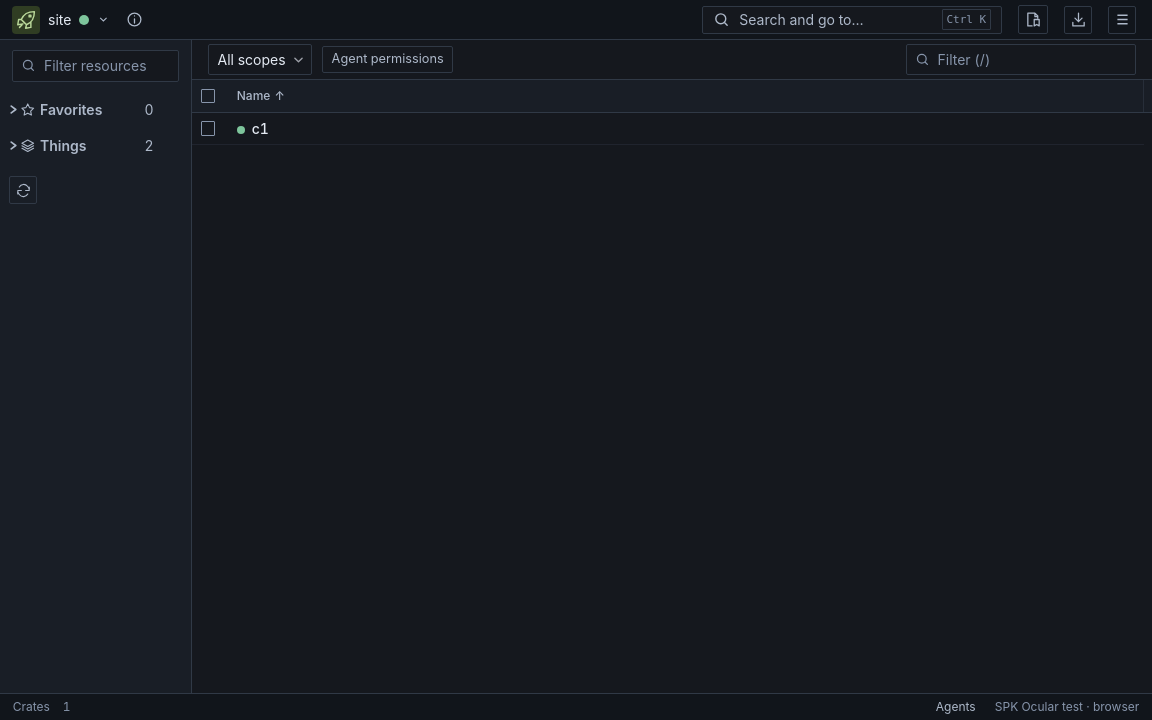
a provider without Kubernetes knowledge › details have no events section when the kind names no events kind
Double-click the text "c1" at (253, 128), box top-left (237, 120), bottom-right (269, 137)
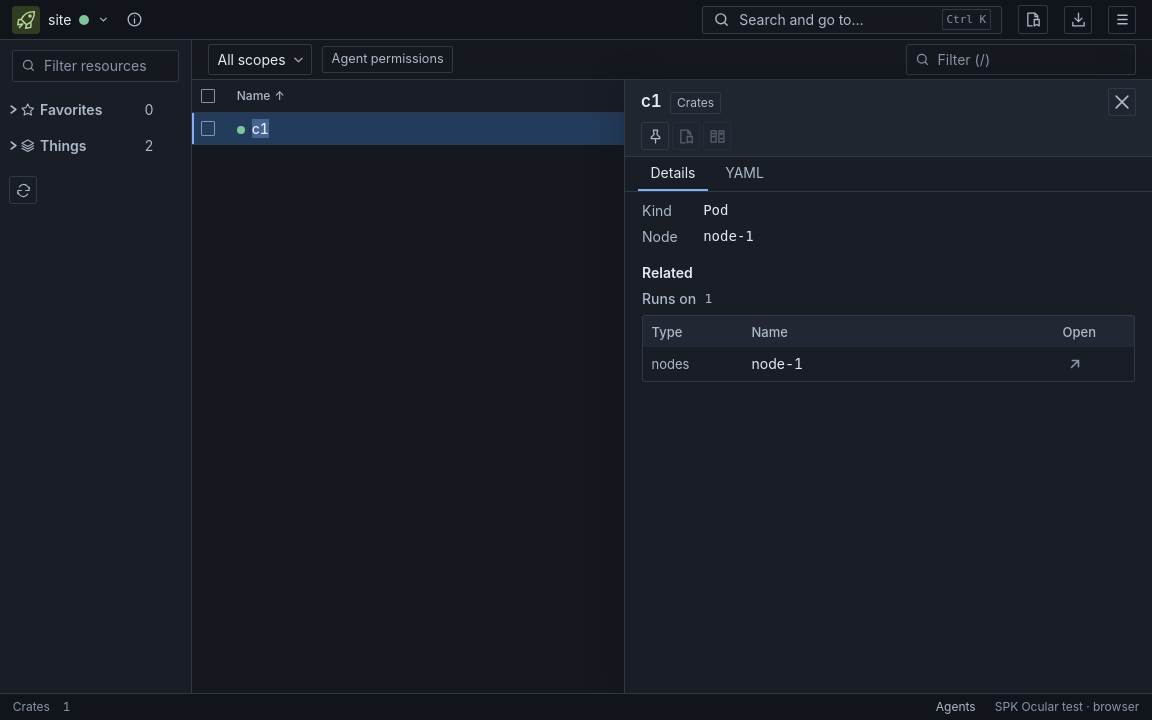
expect the dialog "Crates" is shown: met, box top-left (624, 80), bottom-right (1151, 693)
